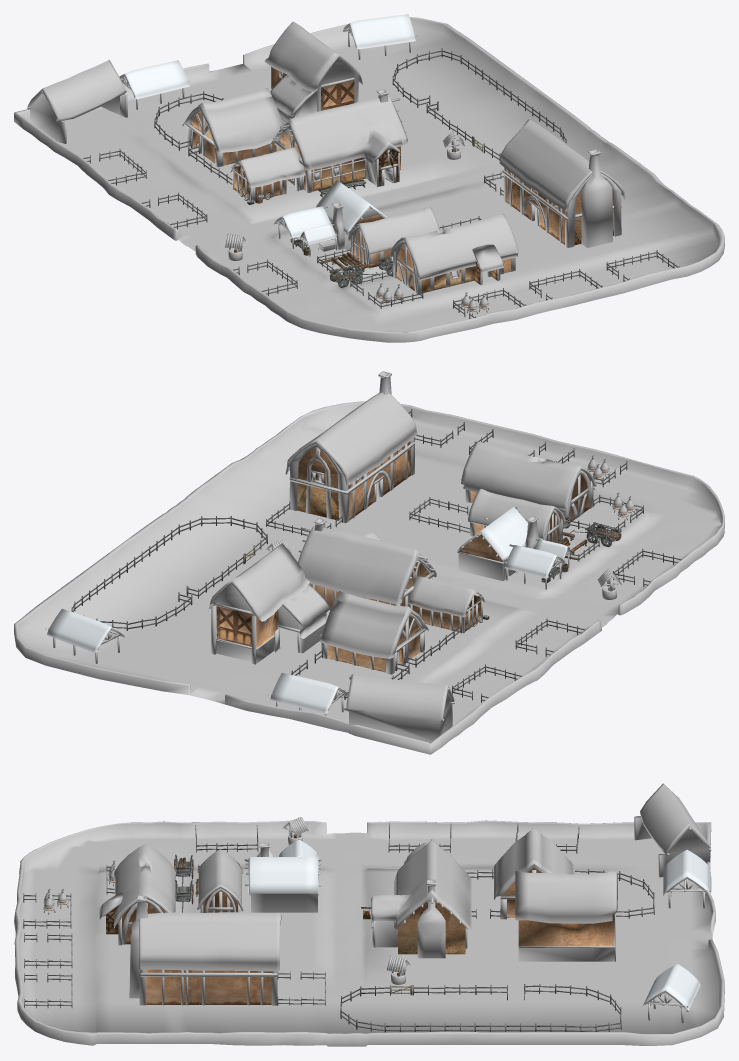
Rendered from MedievalFarmLayout(2010).fbx.
3 views of the same model, one above another, from view 1: azimuth 30°, elevation 25°; view 2: azimuth 150°, elevation 25°; view 3: azimuth 270°, elevation 25° (orthographic). The views are drawn at different scales.
Parts seen in each view (by area): view 1: TERRAIN, TerrainWall, FarmBuildingC, FarmBuildingD, FarmBuildingE, FarmBuildingA, FarmBuildingB, FarmBuildingH, FarmBuildingG, FarmBuildingF, FarmBuildingJ, FarmBuildingI (+5 smaller); view 2: TERRAIN, TerrainWall, FarmBuildingD, FarmBuildingC, FarmBuildingA, FarmBuildingB, FarmBuildingE, FarmBuildingH, FarmBuildingG, FarmBuildingF, FarmBuildingI, FarmBuildingJ (+5 smaller); view 3: TERRAIN, TerrainWall, FarmBuildingD, FarmBuildingC, FarmBuildingA, FarmBuildingG, FarmBuildingE, FarmBuildingH, FarmBuildingB, FarmBuildingF, FarmBuildingI, FenceSectionA (+4 smaller).
Boxes of the visible parts, x1,y1,x2,y2 form: TERRAIN: (29, 27, 718, 332); TerrainWall: (14, 17, 724, 342); FarmBuildingC: (230, 89, 407, 204); FarmBuildingD: (499, 119, 625, 247); FarmBuildingE: (390, 213, 518, 293); FarmBuildingA: (264, 21, 362, 125); FarmBuildingB: (182, 88, 283, 167); FarmBuildingH: (27, 60, 127, 143); FarmBuildingG: (274, 180, 386, 256); FarmBuildingF: (348, 207, 439, 268); FarmBuildingJ: (342, 14, 417, 59); FarmBuildingI: (119, 42, 410, 109); TERRAIN: (19, 414, 721, 726); TerrainWall: (14, 401, 724, 754); FarmBuildingD: (285, 371, 417, 522); FarmBuildingC: (297, 518, 489, 633); FarmBuildingA: (209, 543, 330, 664); FarmBuildingB: (319, 591, 428, 674); FarmBuildingE: (461, 441, 596, 522); FarmBuildingH: (344, 674, 454, 742); FarmBuildingG: (457, 506, 571, 589); FarmBuildingF: (468, 488, 565, 542); FarmBuildingI: (53, 637, 347, 715); FarmBuildingJ: (45, 608, 125, 663); TERRAIN: (19, 831, 719, 1033); TerrainWall: (14, 820, 724, 1046); FarmBuildingD: (129, 895, 281, 1005); FarmBuildingC: (361, 839, 471, 958); FarmBuildingA: (515, 871, 617, 961); FarmBuildingG: (244, 839, 321, 912); FarmBuildingE: (99, 844, 176, 945); FarmBuildingH: (634, 783, 711, 877); FarmBuildingB: (494, 828, 575, 919); FarmBuildingF: (197, 849, 243, 912); FarmBuildingI: (648, 849, 710, 1023); FenceSectionA: (413, 869, 654, 1031).
Bounding box in the file's own units: 5563 × 1166 × 7687.
